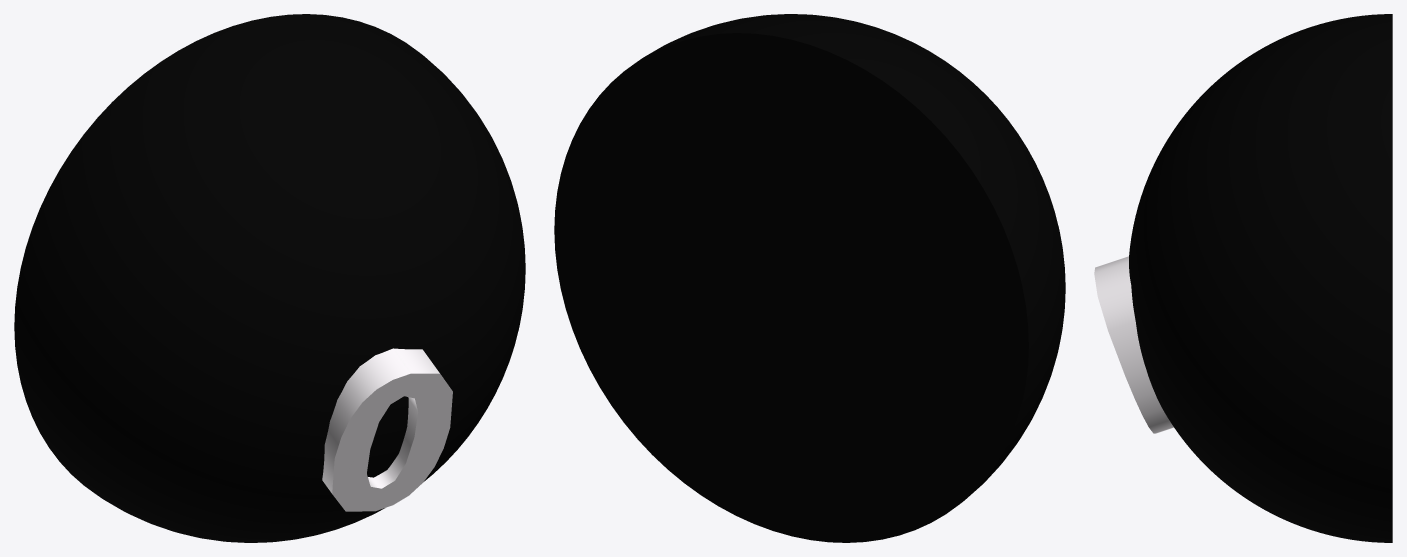
File: button0.fbx
3 renders of one model, left to right at view 1: azimuth 30°, elevation 25°; view 2: azimuth 150°, elevation 25°; view 3: azimuth 270°, elevation 25°, orthographic. The views are drawn at different scales.
Visible parts, largest first — view 1: root, node_id48; view 2: root; view 3: root, node_id48.
Part boxes in pixels (box(x1,y1,x2,y2)): root: box(14, 14, 525, 542); node_id48: box(322, 348, 452, 511); root: box(554, 14, 1065, 542); root: box(1129, 14, 1392, 542); node_id48: box(1094, 256, 1173, 433).
Size of the model in its own units: 0.1721 by 0.1721 by 0.0971.
2 materials, 2 textured.
